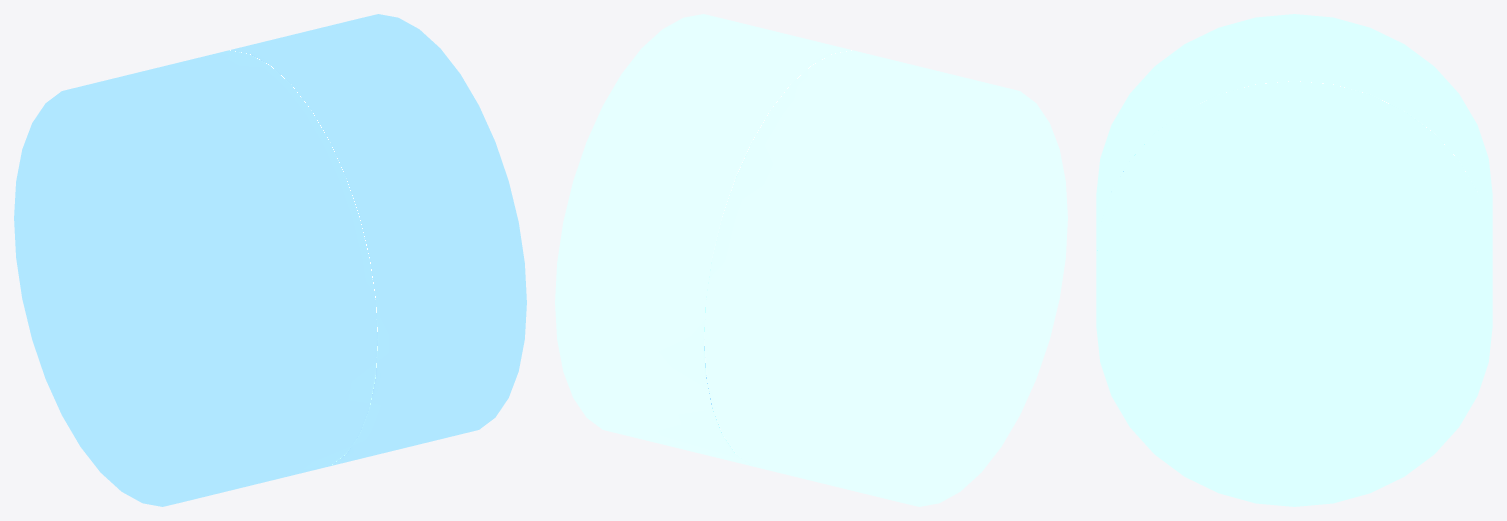
File: HATCH_Turbocharger_Turbine.glb
3 renders of one model, left to right at view 1: azimuth 30°, elevation 25°; view 2: azimuth 150°, elevation 25°; view 3: azimuth 270°, elevation 25°, orthographic. The views are drawn at different scales.
Parts seen in each view (by area): view 1: HATCH_Turbocharger_Turbine; view 2: HATCH_Turbocharger_Turbine; view 3: HATCH_Turbocharger_Turbine.
Boxes of the visible parts, x1,y1,x2,y2 form: HATCH_Turbocharger_Turbine: (14, 14, 526, 506); HATCH_Turbocharger_Turbine: (555, 14, 1067, 506); HATCH_Turbocharger_Turbine: (1096, 14, 1492, 506).
Bounding box in the file's own units: 0.12 × 0.15 × 0.15.
